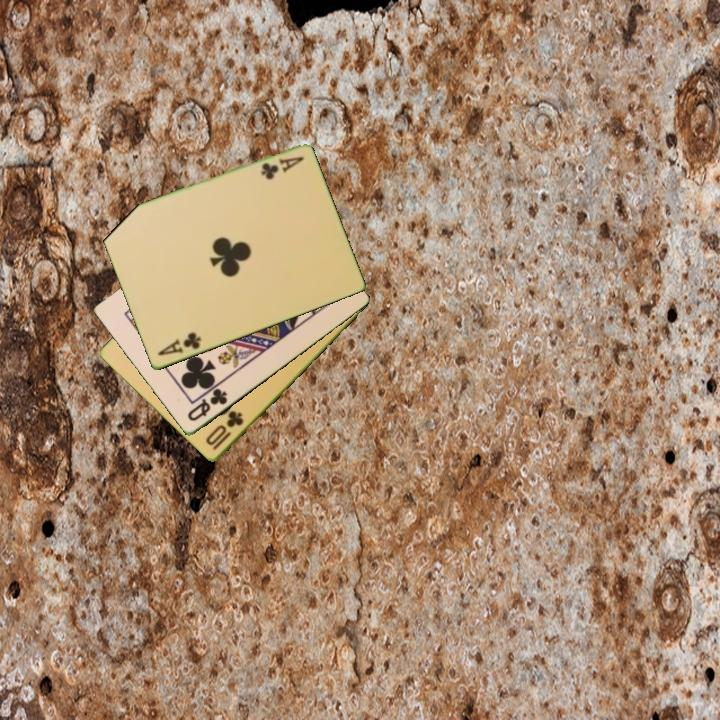10c: (202, 407, 246, 454)
Ac: (154, 329, 204, 359), (257, 153, 307, 183)
Qc: (184, 385, 230, 425)
